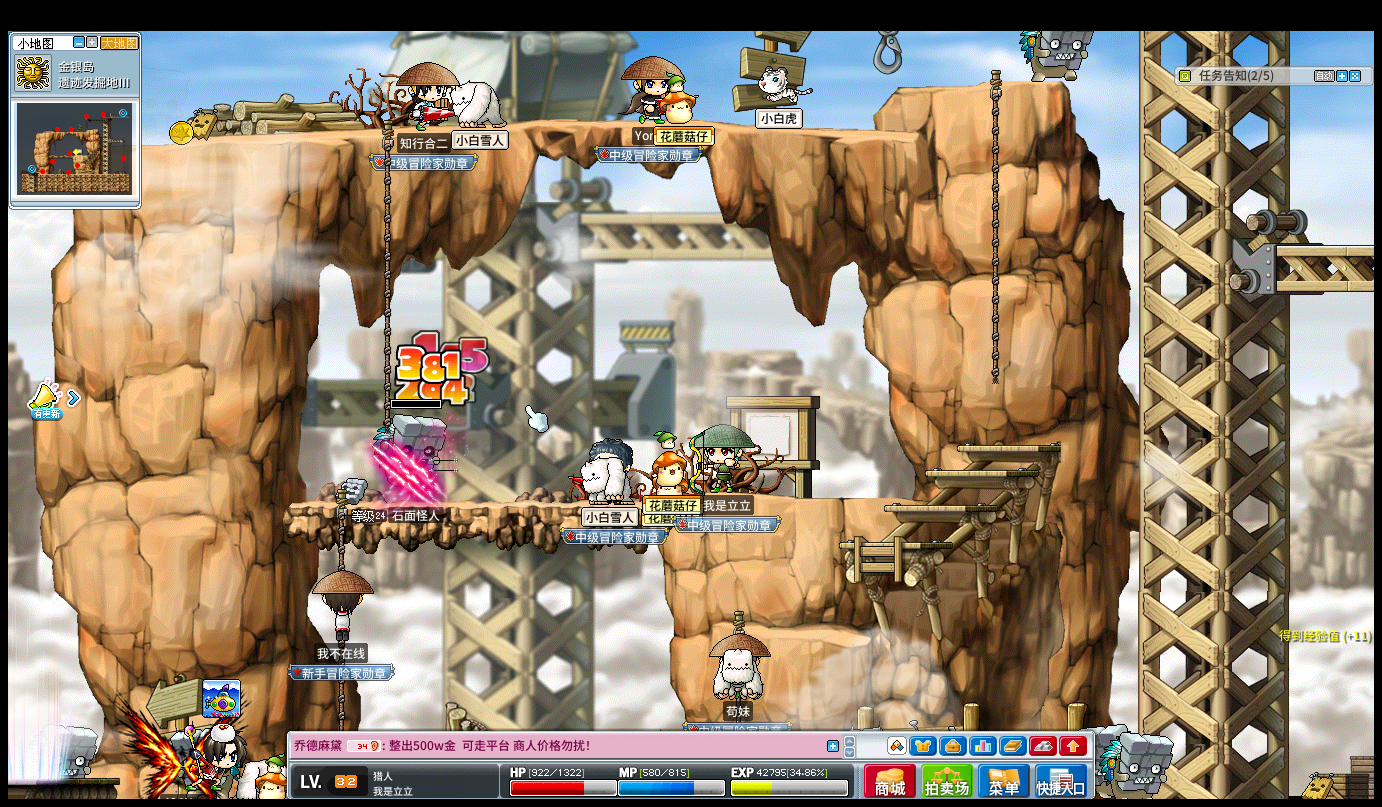floor: (128, 115, 937, 145), (286, 498, 628, 511), (895, 76, 1073, 91), (765, 624, 870, 648), (895, 79, 1050, 94), (1273, 240, 1379, 260), (921, 467, 1035, 481), (883, 503, 996, 516), (919, 464, 1038, 476), (783, 495, 919, 504), (786, 498, 921, 507), (836, 540, 954, 550), (957, 443, 1060, 453)
monster: (375, 413, 449, 499), (1101, 732, 1171, 793), (1016, 26, 1058, 82)
rope: (987, 60, 1002, 389), (380, 117, 392, 434), (331, 491, 346, 571)
